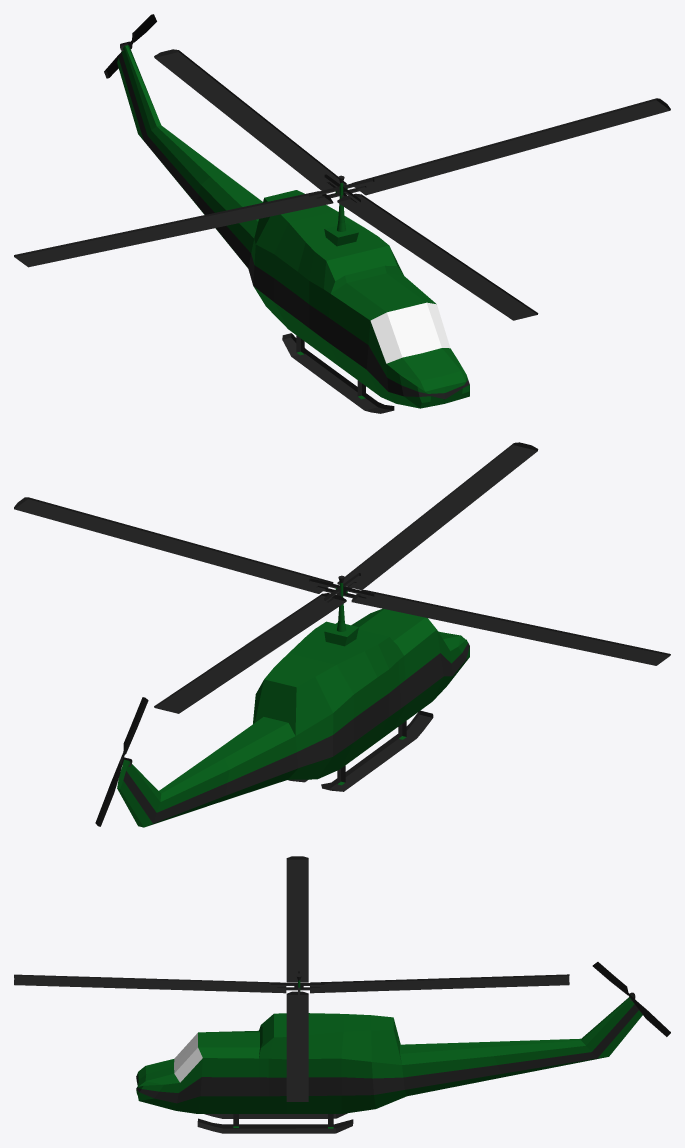
File: helicopter_85e85f35.glb
The picture shows the model from 3 angles, top to bottom: view 1: azimuth 30°, elevation 25°; view 2: azimuth 150°, elevation 25°; view 3: azimuth 270°, elevation 25°; orthographic projection. The views are drawn at different scales.
Parts seen in each view (by area): view 1: Cube_0; view 2: Cube_0, Cube.001_4; view 3: Cube_0, Cube.001_4.
Boxes of the visible parts, x1=… form: Cube_0: x1=14, y1=41, x2=670, y2=413; Cube_0: x1=14, y1=442, x2=670, y2=827; Cube.001_4: x1=95, y1=697, x2=148, y2=826; Cube_0: x1=14, y1=856, x2=642, y2=1133; Cube.001_4: x1=592, y1=962, x2=670, y2=1036.
Bounding box in the file's own units: 16.12 × 5.06 × 18.45.
